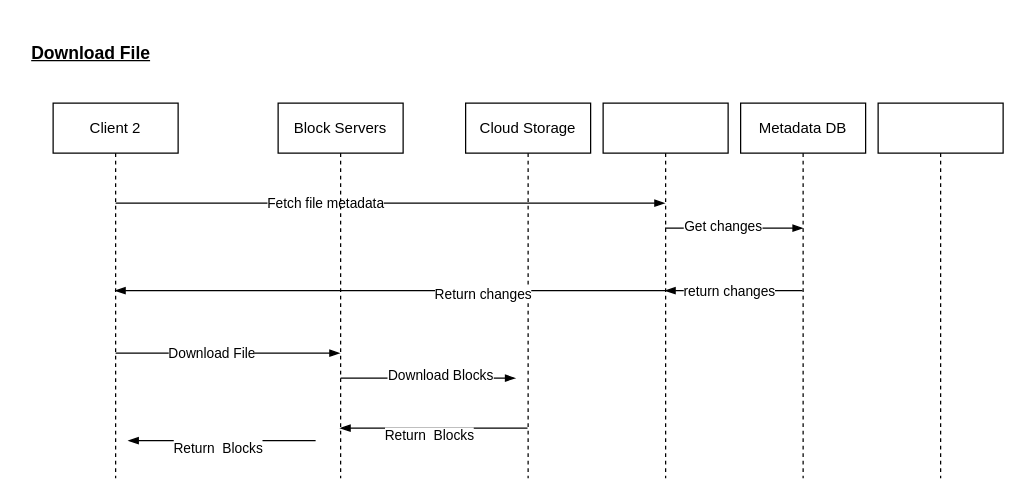
The diagram is 1025 pixels wide and 500 high, and some of its shapes have lost their labels. The shapes that lost their labels are listed below. From the top down, each one's box as (x1, y1, x2, y2) in pixels, then its label:
(602, 102, 728, 478): API Servers
(877, 102, 1003, 478): Notfication Service
